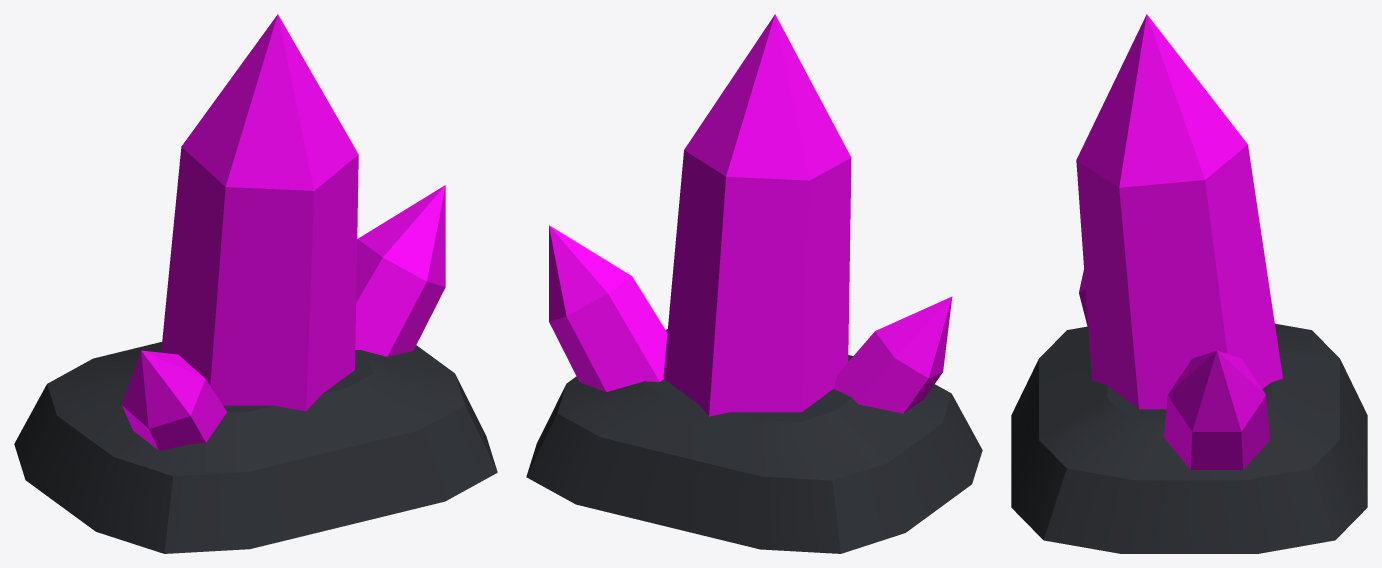
Rendered from objet_cristal_quantique.glb.
The picture shows the model from 3 angles, left to right: view 1: azimuth 30°, elevation 25°; view 2: azimuth 150°, elevation 25°; view 3: azimuth 270°, elevation 25°; orthographic projection. The views are drawn at different scales.
Parts seen in each view (by area): view 1: cristal_teinte.002, cristal_composant.002; view 2: cristal_teinte.002, cristal_composant.002; view 3: cristal_teinte.002, cristal_composant.002.
Boxes of the visible parts, x1,y1,x2,y2 form: cristal_teinte.002: (121,14,445,450); cristal_composant.002: (14,342,497,553); cristal_teinte.002: (549,14,952,416); cristal_composant.002: (526,329,982,553); cristal_teinte.002: (1076,14,1282,469); cristal_composant.002: (1011,323,1367,553).
Bounding box in the file's own units: 0.1635 × 0.1802 × 0.13.
